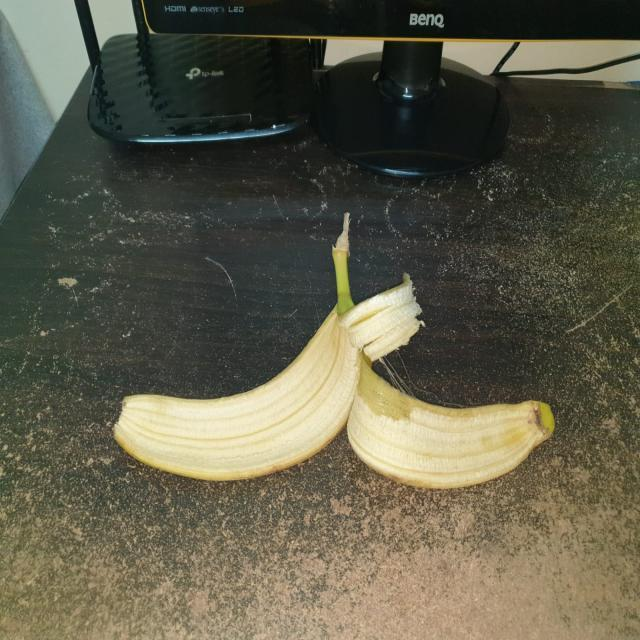banana-peel: (111, 210, 424, 482), (345, 347, 555, 490)
